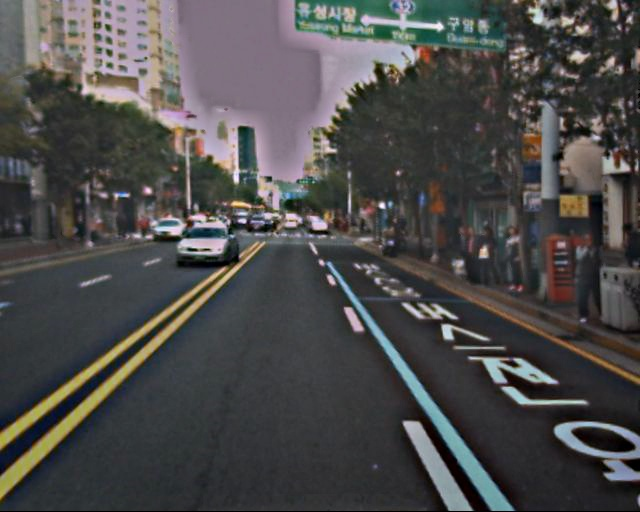person: (567, 232, 606, 326), (613, 224, 640, 298), (501, 229, 528, 296), (477, 227, 501, 285), (462, 226, 483, 278), (453, 225, 473, 274)
